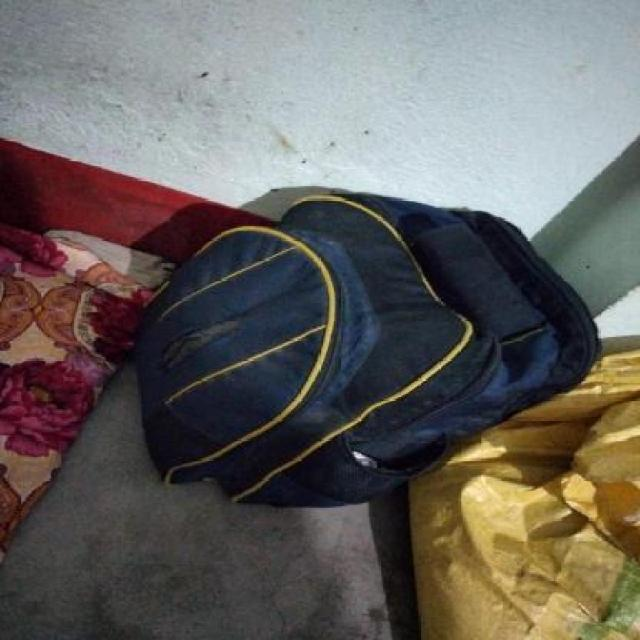backpack: (126, 188, 606, 514)
